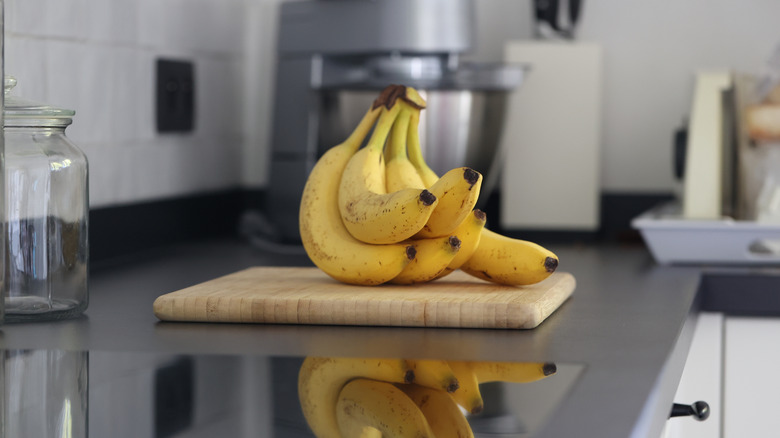banana: (291, 81, 565, 290)
